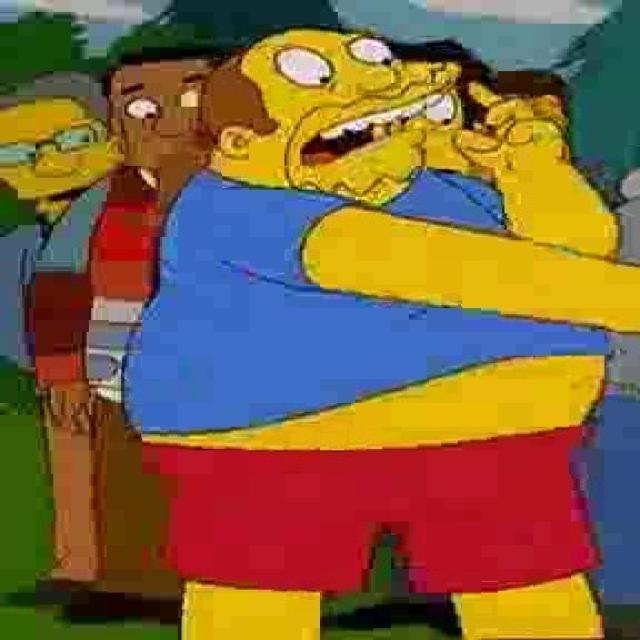Comic Book Guy: (189, 24, 473, 210)
